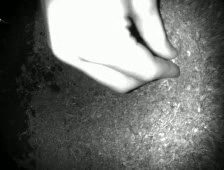corn: (169, 55, 178, 64)
